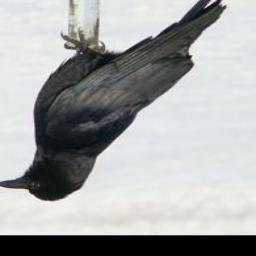Crow: (0, 0, 227, 203)
